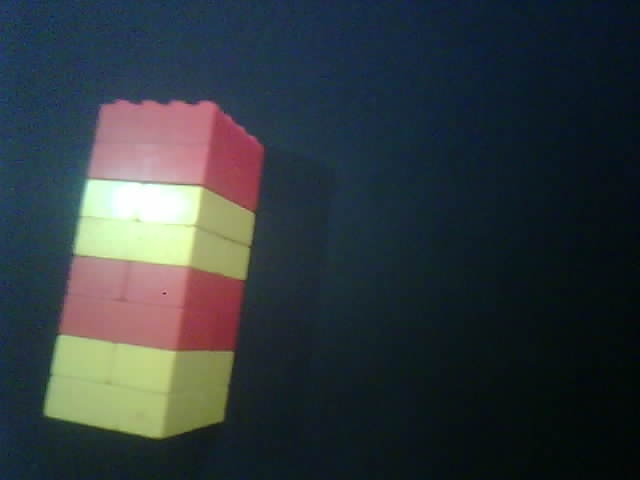lego: (41, 98, 266, 442)
